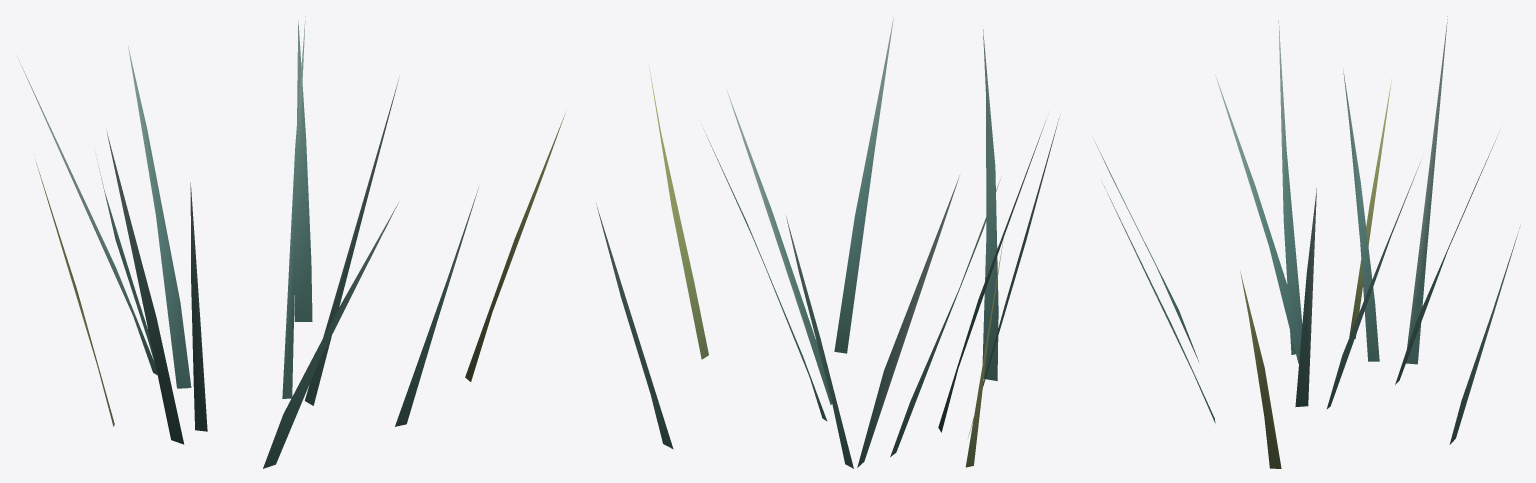
Rendered from BlueFescue_LOD1.glb.
The picture shows the model from 3 angles, left to right: view 1: azimuth 30°, elevation 25°; view 2: azimuth 150°, elevation 25°; view 3: azimuth 270°, elevation 25°; orthographic projection. The views are drawn at different scales.
Parts seen in each view (by area): view 1: BlueFescue_LOD1; view 2: BlueFescue_LOD1; view 3: BlueFescue_LOD1.
Boxes of the visible parts, x1=… form: BlueFescue_LOD1: x1=17, y1=16, x2=565, y2=468; BlueFescue_LOD1: x1=596, y1=17, x2=1059, y2=468; BlueFescue_LOD1: x1=1094, y1=16, x2=1520, y2=468.
Size of the model in its own units: 0.275 by 0.2071 by 0.2625.
